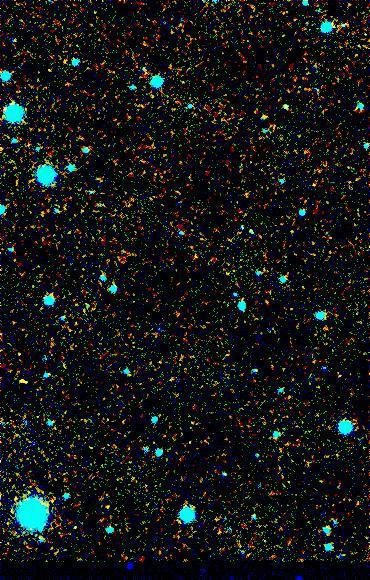star: (7, 369, 37, 399)
